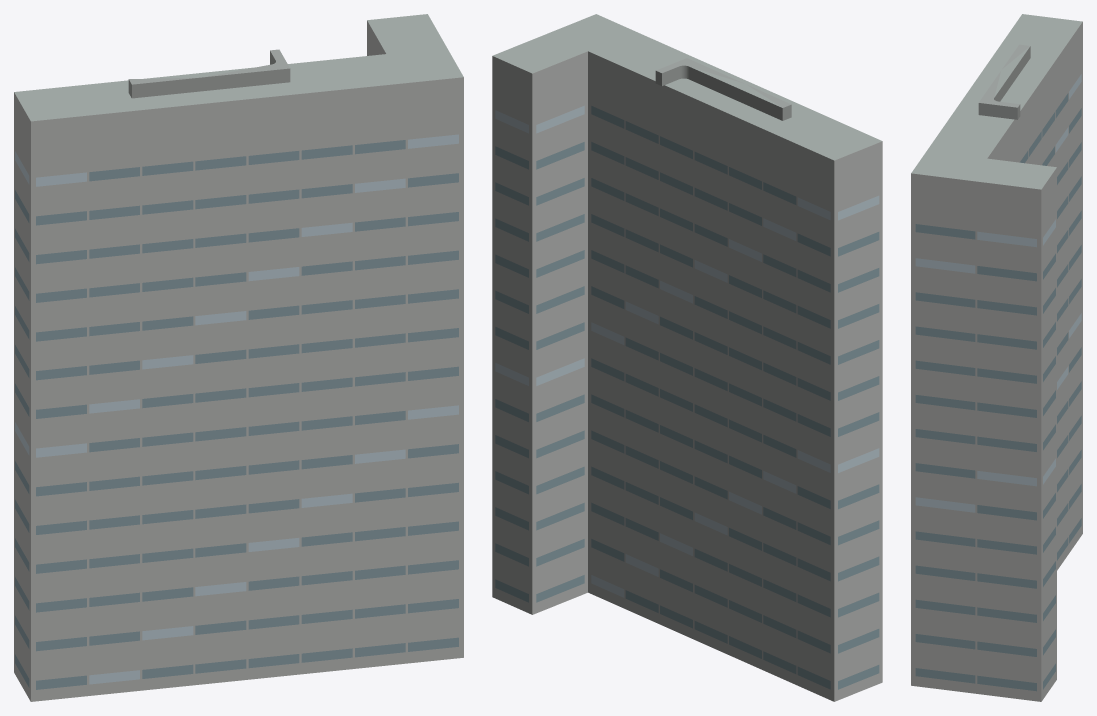
File: fallback-olympic-park-foreon-109.glb
3 views of the same model, side by side, from view 1: azimuth 30°, elevation 25°; view 2: azimuth 150°, elevation 25°; view 3: azimuth 270°, elevation 25° (orthographic). The views are drawn at different scales.
Visible parts, largest first — view 1: fallback-olympic-park-foreon-109; view 2: fallback-olympic-park-foreon-109; view 3: fallback-olympic-park-foreon-109.
Boxes of the visible parts, x1,y1,x2,y2 form: fallback-olympic-park-foreon-109: [14, 14, 463, 701]; fallback-olympic-park-foreon-109: [492, 14, 882, 701]; fallback-olympic-park-foreon-109: [911, 14, 1082, 701].
Bounding box in the file's own units: 73.96 × 103 × 30.57.
